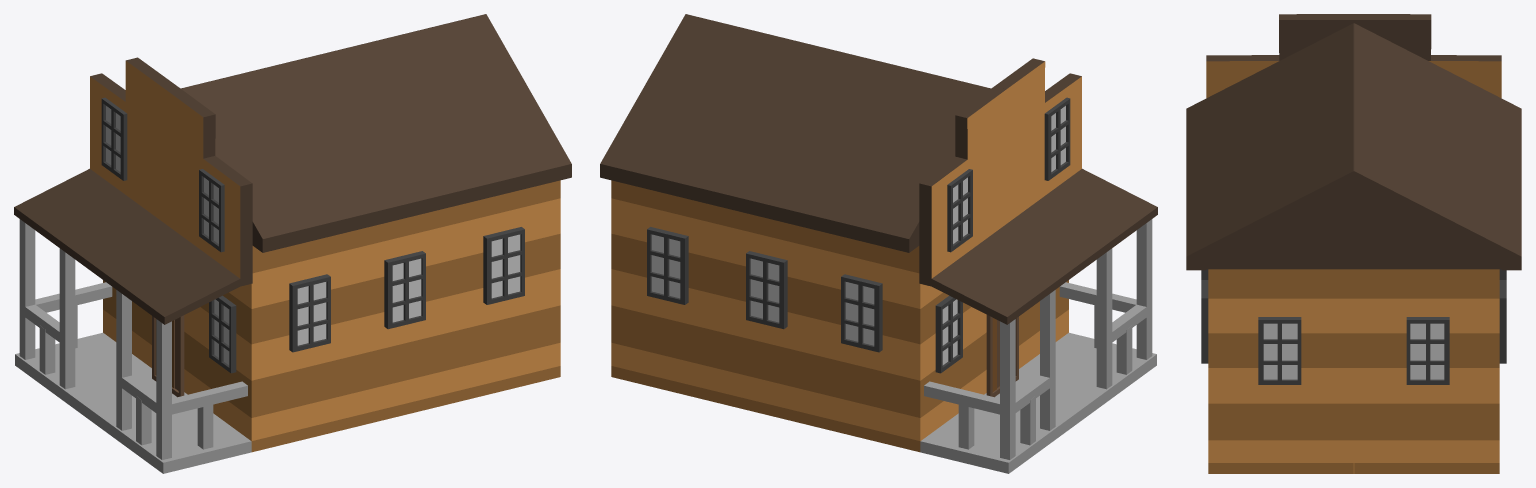
File: SquareHouse.fbx
3 views of the same model, side by side, from view 1: azimuth 30°, elevation 25°; view 2: azimuth 150°, elevation 25°; view 3: azimuth 270°, elevation 25° (orthographic).
Visible parts, largest first — view 1: square_building; view 2: square_building; view 3: square_building.
Boxes of the visible parts, left/top/right/bottom form: square_building: left=14, top=14, right=571, bottom=473; square_building: left=600, top=14, right=1157, bottom=473; square_building: left=1186, top=14, right=1521, bottom=473.
Size of the model in its own units: 20.22 by 14.96 by 14.86.
